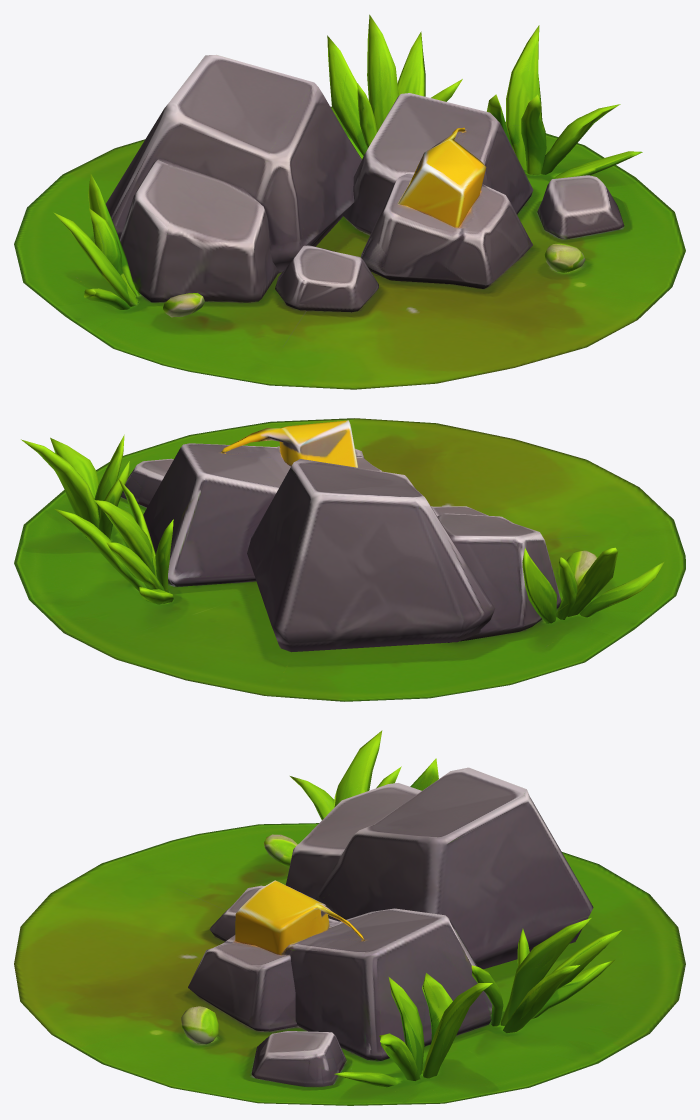
Rendered from etapa25.glb.
3 views of the same model, one above another, from view 1: azimuth 30°, elevation 25°; view 2: azimuth 150°, elevation 25°; view 3: azimuth 270°, elevation 25° (orthographic). The views are drawn at different scales.
Size of the model in its own units: 1 by 0.2716 by 1.
Materials: 1 (1 with a texture image).
